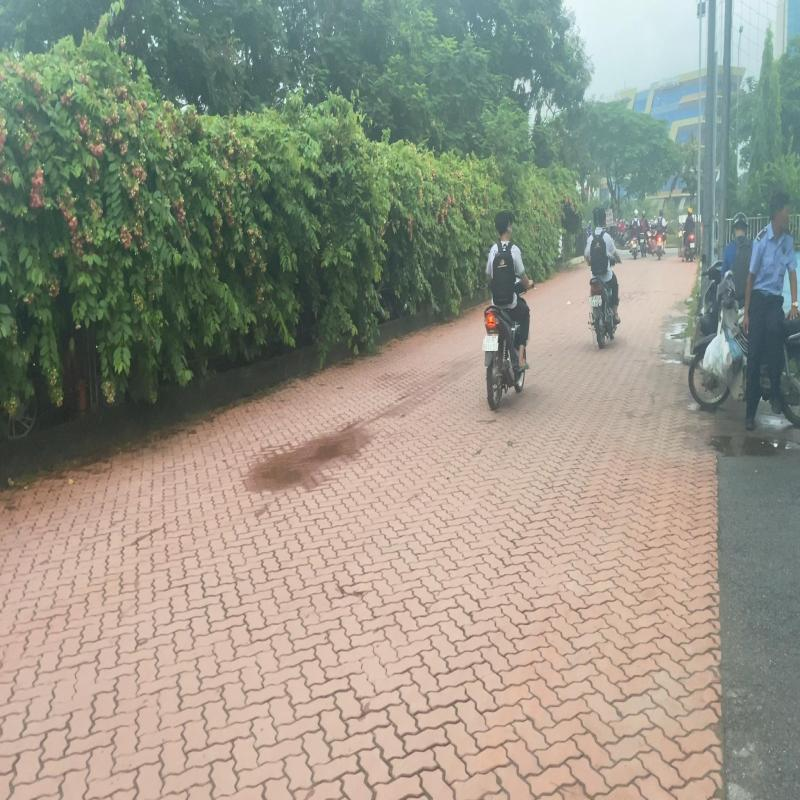licenseplate: (484, 335, 500, 351), (590, 295, 600, 306)
motorcyclist: (481, 210, 538, 412), (584, 204, 625, 350)
nohelmet: (494, 211, 511, 240), (596, 208, 606, 227)
